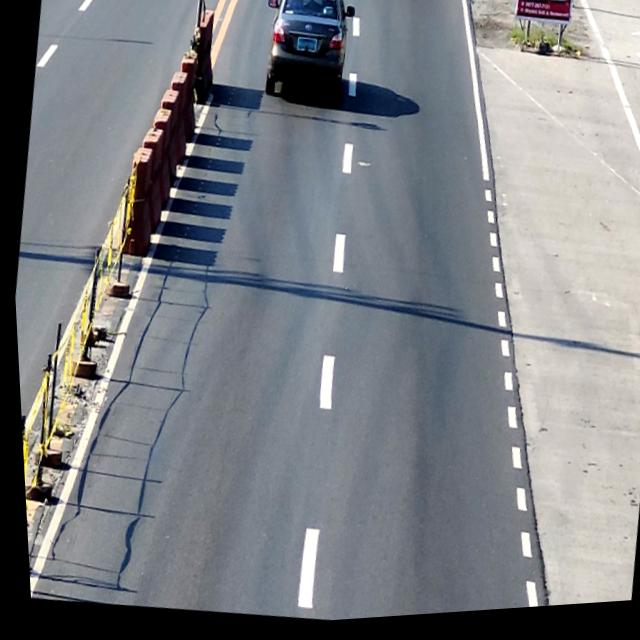Car: (255, 0, 362, 112)
License-Plate: (296, 41, 317, 57)
